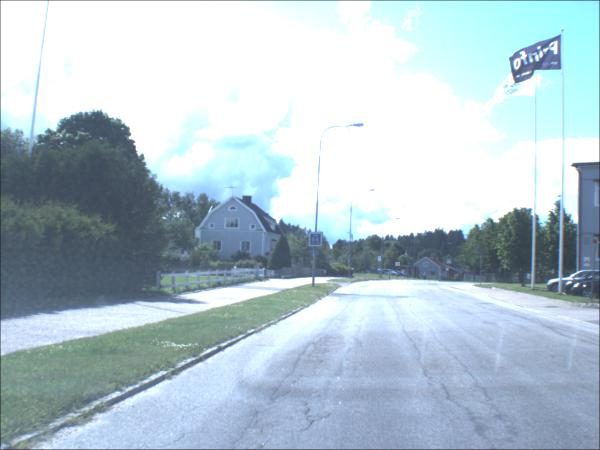NO_STOPPING_NO_STANDING: (395, 263, 401, 268)
PEDESTRIAN_CROSSING: (378, 257, 382, 263), (447, 260, 451, 266)
